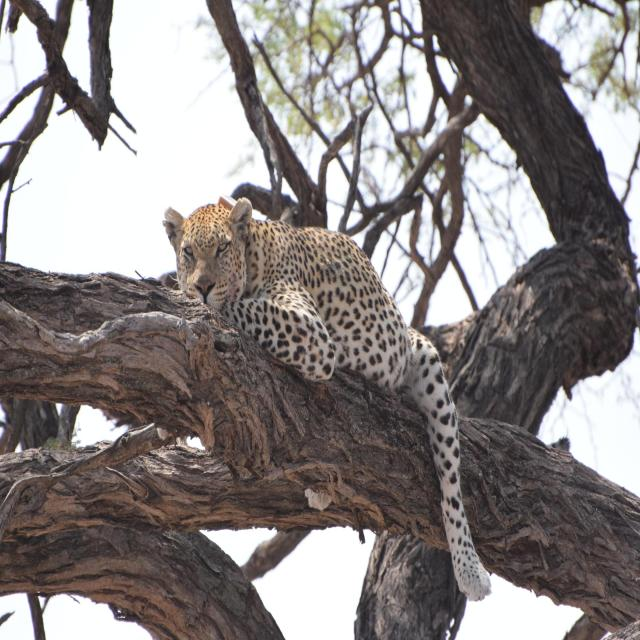Leopard: (122, 120, 539, 639)
